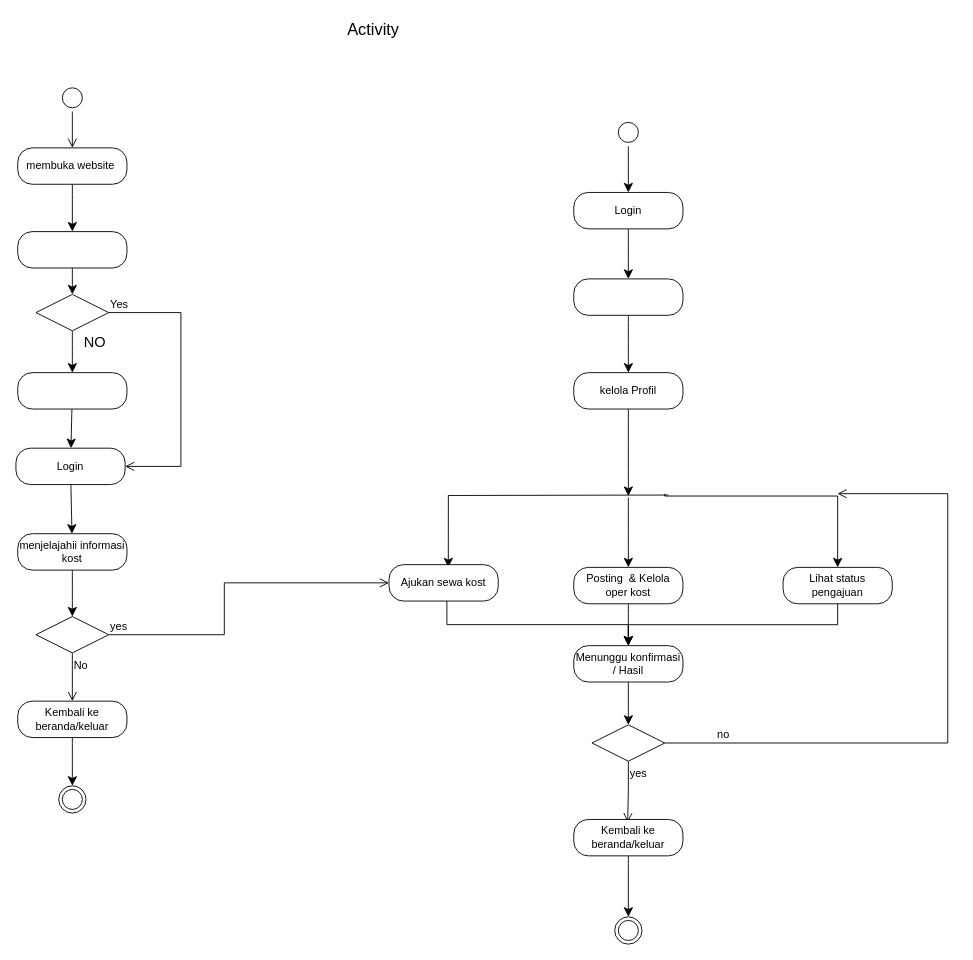
This 973x960 diagram has some shape labels left out. The shapes that lost their labels are listed below. From the top down, each one's centre as x and y in pixels, then its label:
At point (72, 249): "Lihat katalog & detail kost".
At point (72, 312): "Sudah punya akun?".
At point (628, 296): "Halaman Pengguna".
At point (72, 390): "Registrasi Akun".
At point (72, 634): "tertarik menyewa / oper kost".
At point (628, 742): "Selesai?".
